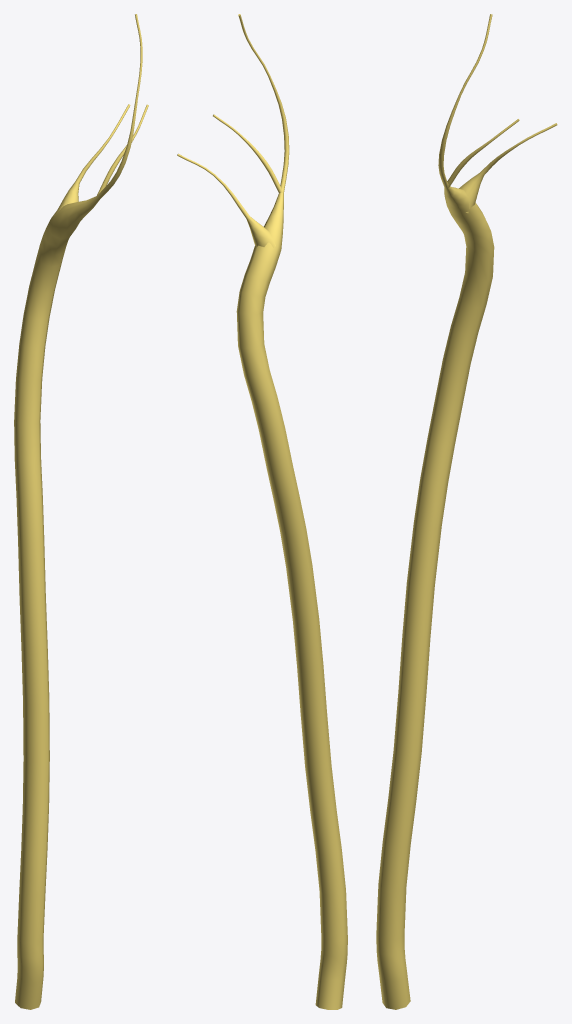
The model's file is nerf-sciatique.glb.
3 renders of one model, left to right at view 1: azimuth 30°, elevation 25°; view 2: azimuth 150°, elevation 25°; view 3: azimuth 330°, elevation 25°, orthographic. The views are drawn at different scales.
Visible parts, largest first — view 1: nerf-sciatique; view 2: nerf-sciatique; view 3: nerf-sciatique.
Boxes of the visible parts, <box> form: nerf-sciatique: <box>14,14,148,1009</box>; nerf-sciatique: <box>177,14,347,1009</box>; nerf-sciatique: <box>376,14,557,1009</box>.
Bounding box in the file's own units: 0.0663 × 0.439 × 0.0549.
